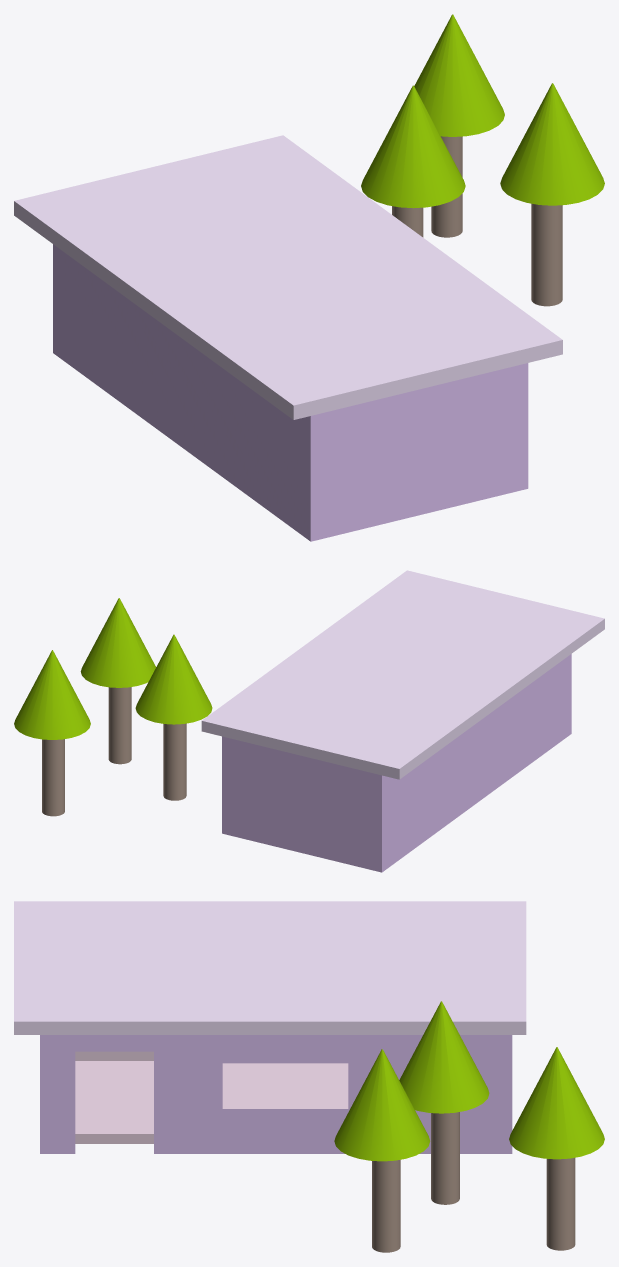
3 views of the same model, one above another, from view 1: azimuth 30°, elevation 25°; view 2: azimuth 150°, elevation 25°; view 3: azimuth 270°, elevation 25° (orthographic). The views are drawn at different scales.
Visible parts, largest first — view 1: SketchUp; view 2: SketchUp; view 3: SketchUp.
Part boxes in pixels (x1=…): SketchUp: x1=14, y1=14, x2=604, y2=541; SketchUp: x1=14, y1=570, x2=604, y2=872; SketchUp: x1=14, y1=901, x2=604, y2=1252.
Size of the model in its own units: 7.32 by 3.01 by 8.09.
